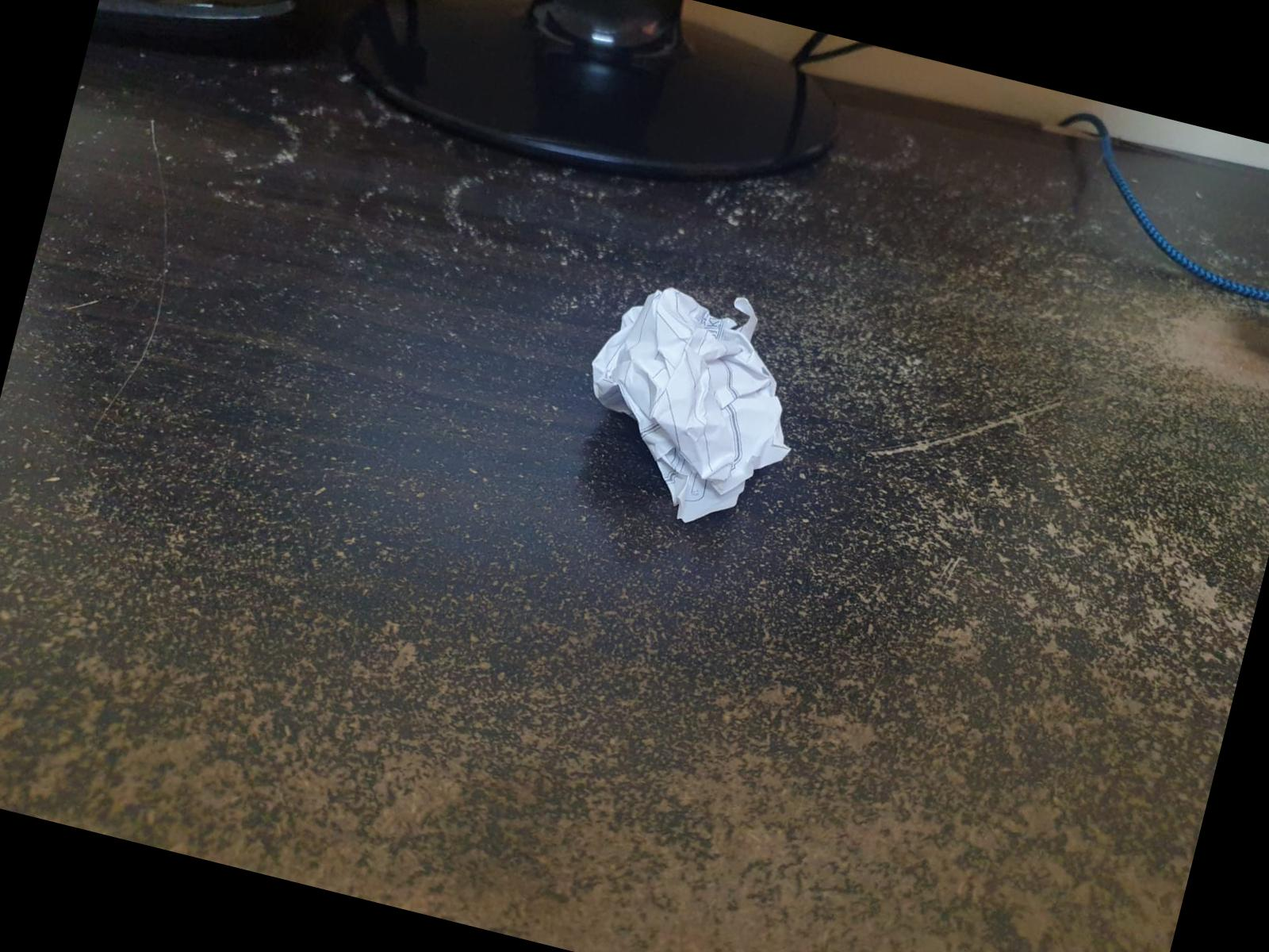Kertas: (577, 294, 795, 525)
